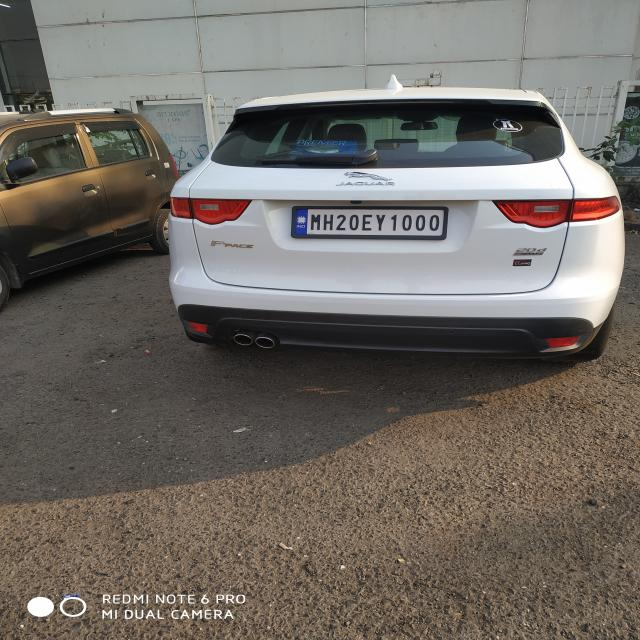Number-Plate: (296, 207, 445, 238)
